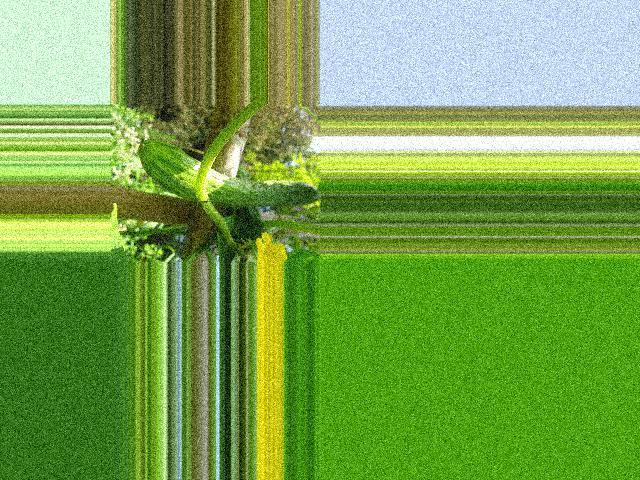cucumber: (138, 140, 320, 207)
